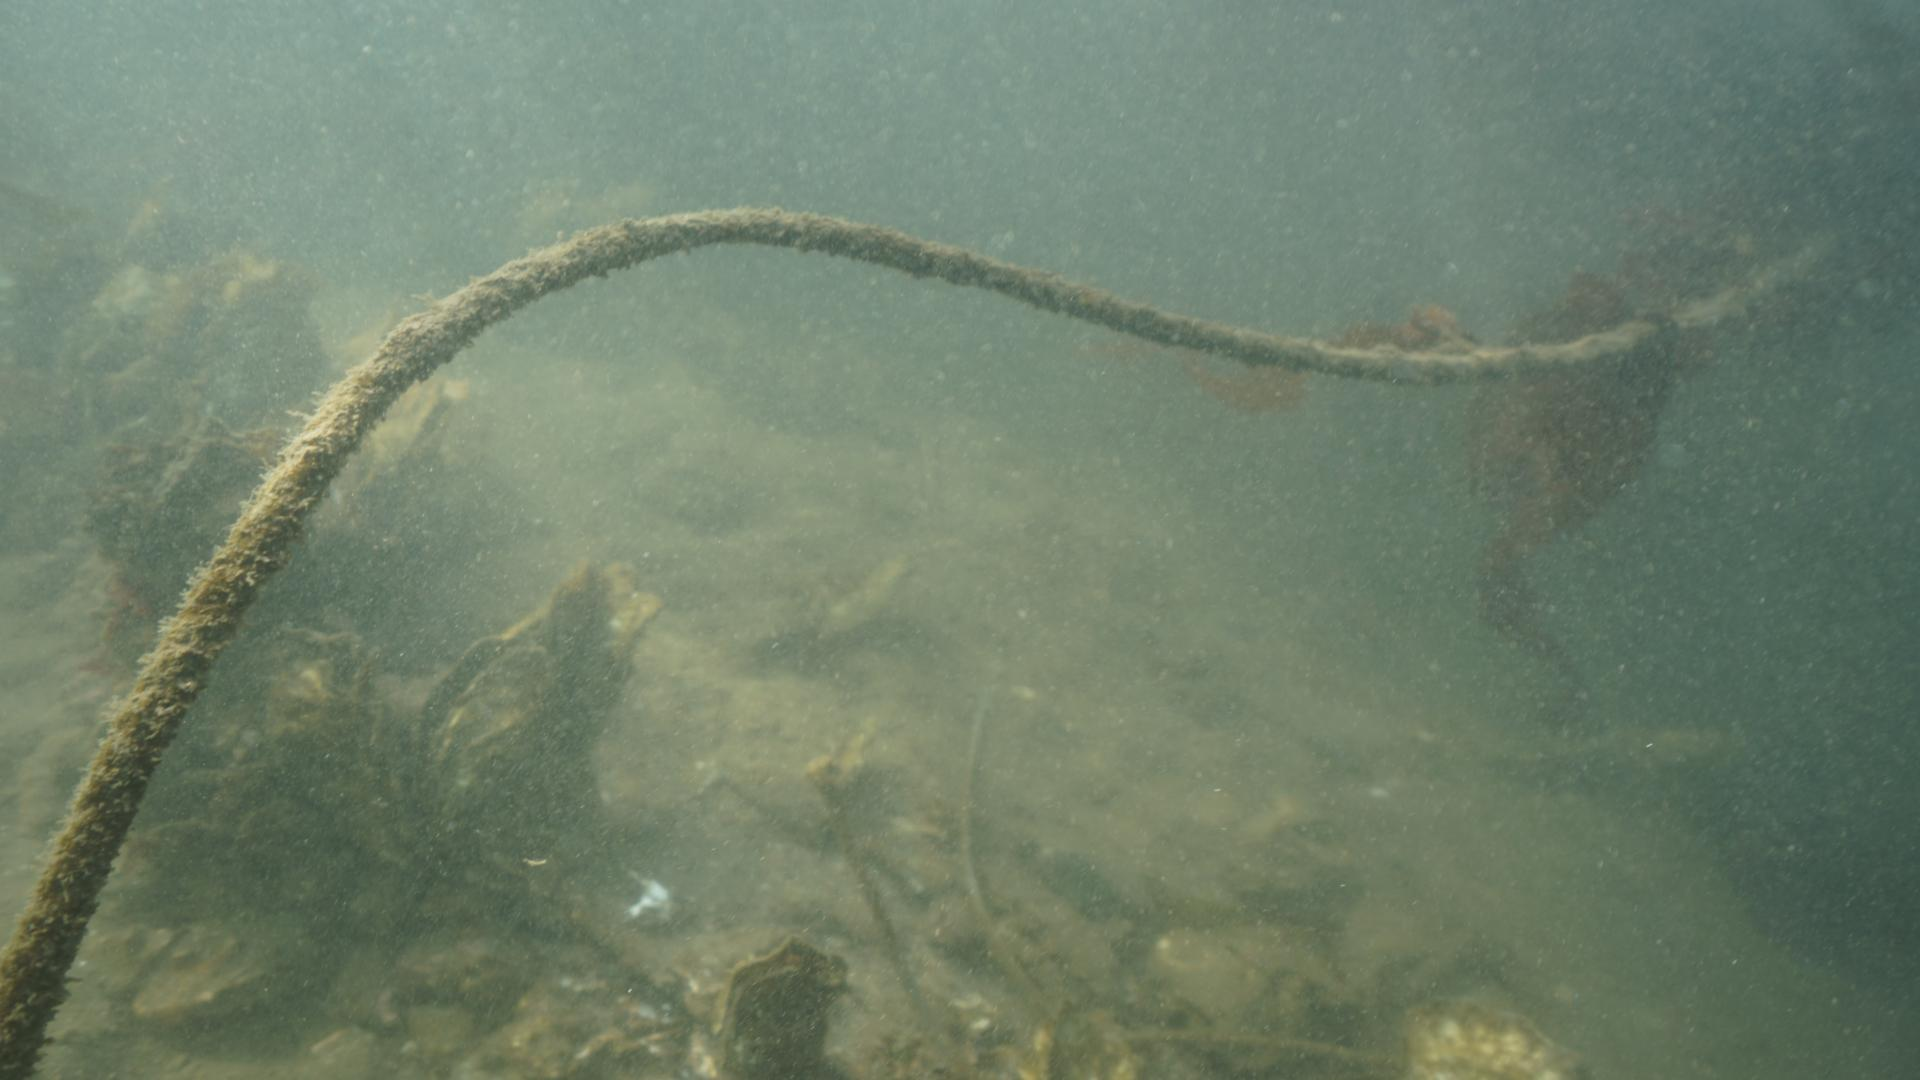rope: (3, 204, 1840, 1080)
